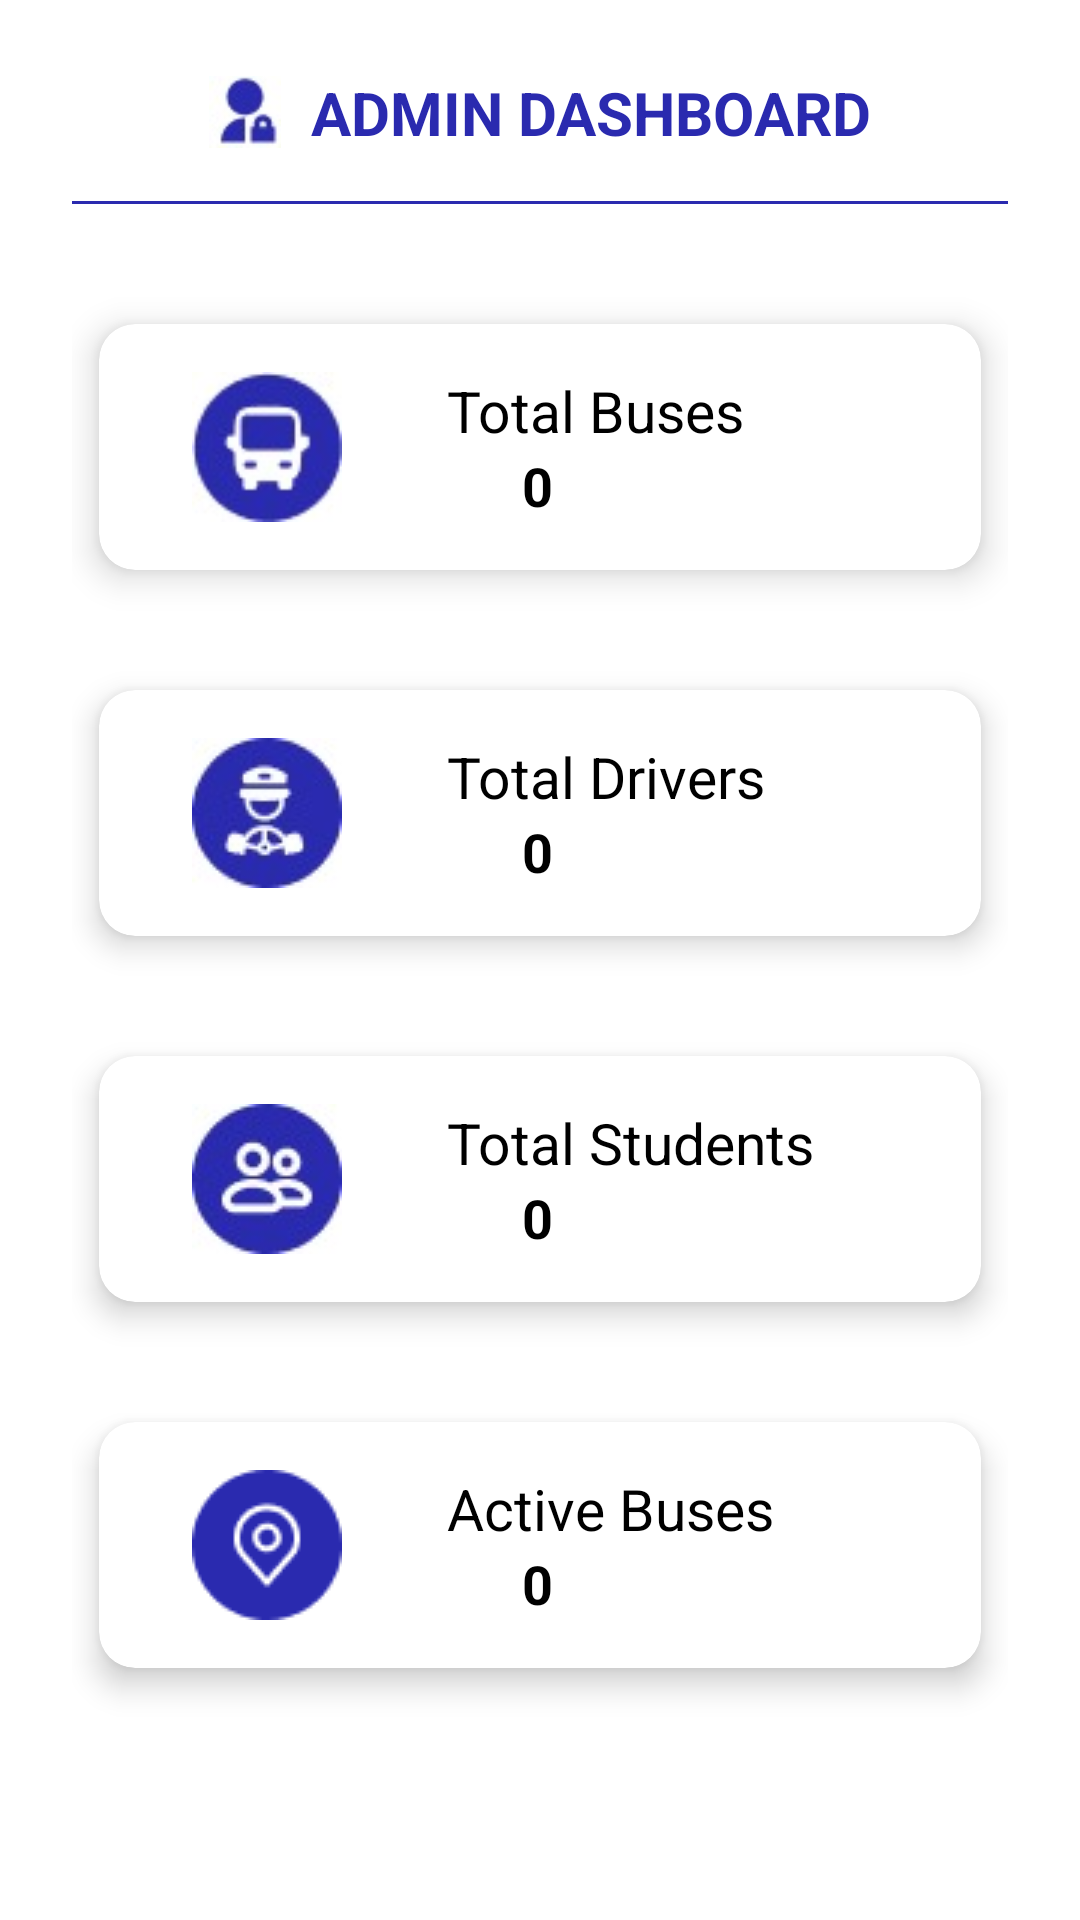

Icons on this 1080 × 1920 Android screen, each with its box as (x1, y1, x2, y2):
bus: (192, 372, 342, 522)
